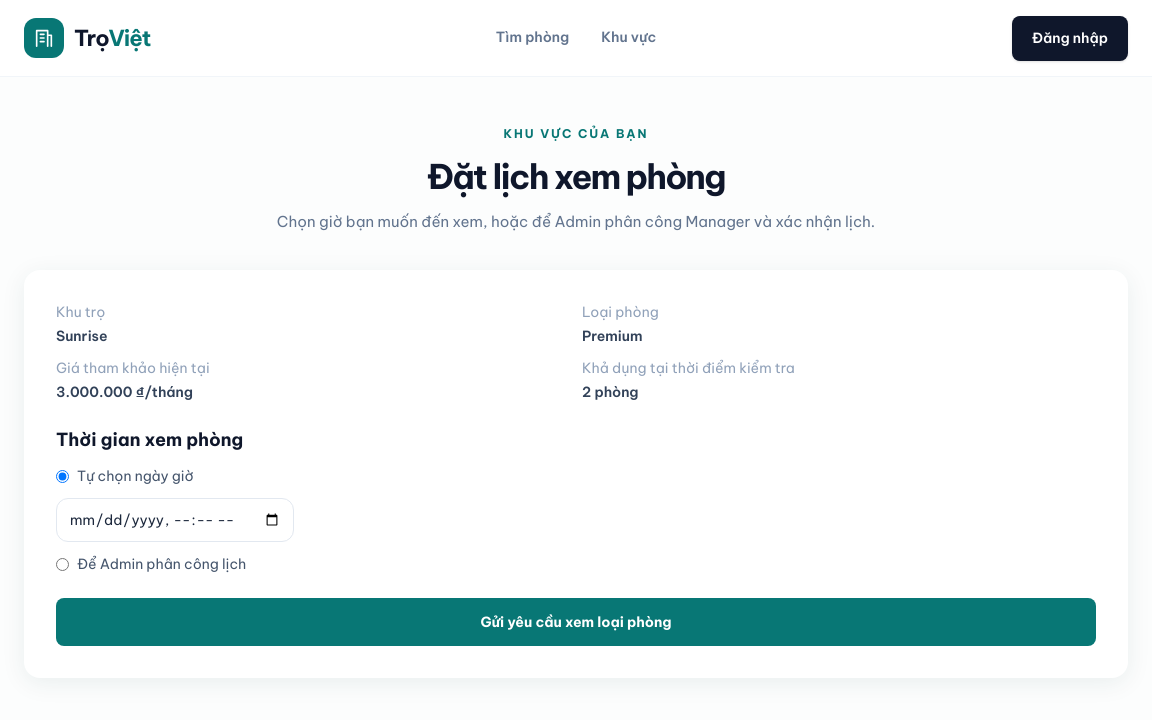
Scenario: ViewingRequestPage › creates a viewing by property and room type without sending a RoomId
The image size is (1152, 720).
Expected: the text "Premium" is shown, [582,327,642,345]
What coordinates should you click on to do the following:
click the radio button labelled "Để Admin phân công lịch"
I would click on:
 (62, 564)
Its box is [56,558,69,570].
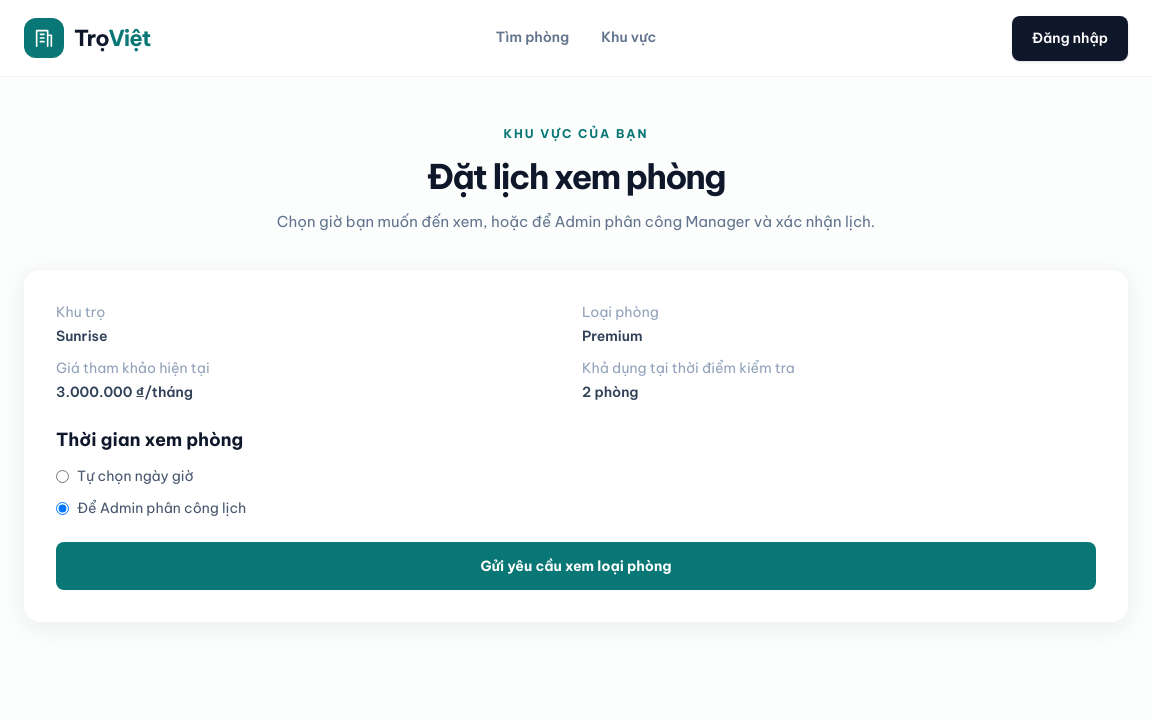
What coordinates should you click on to do the following:
click the button "Gửi yêu cầu xem loại phòng"
I would click on:
 (576, 566)
Its box is [56,542,1096,590].
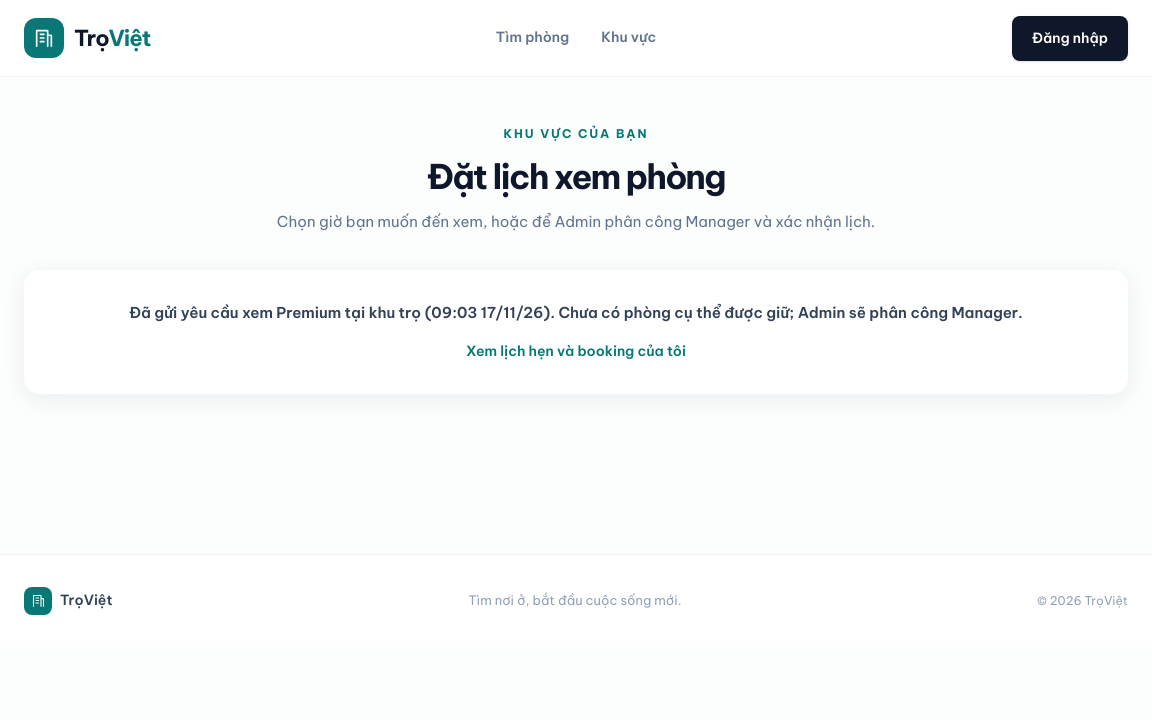
Expected: the text "Chưa có phòng cụ thể được giữ" is shown, [129,303,1023,322]
